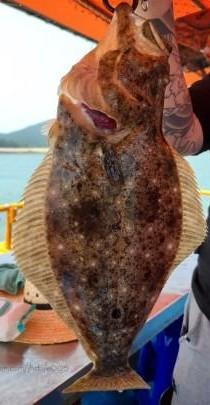fish: (12, 4, 206, 395)
